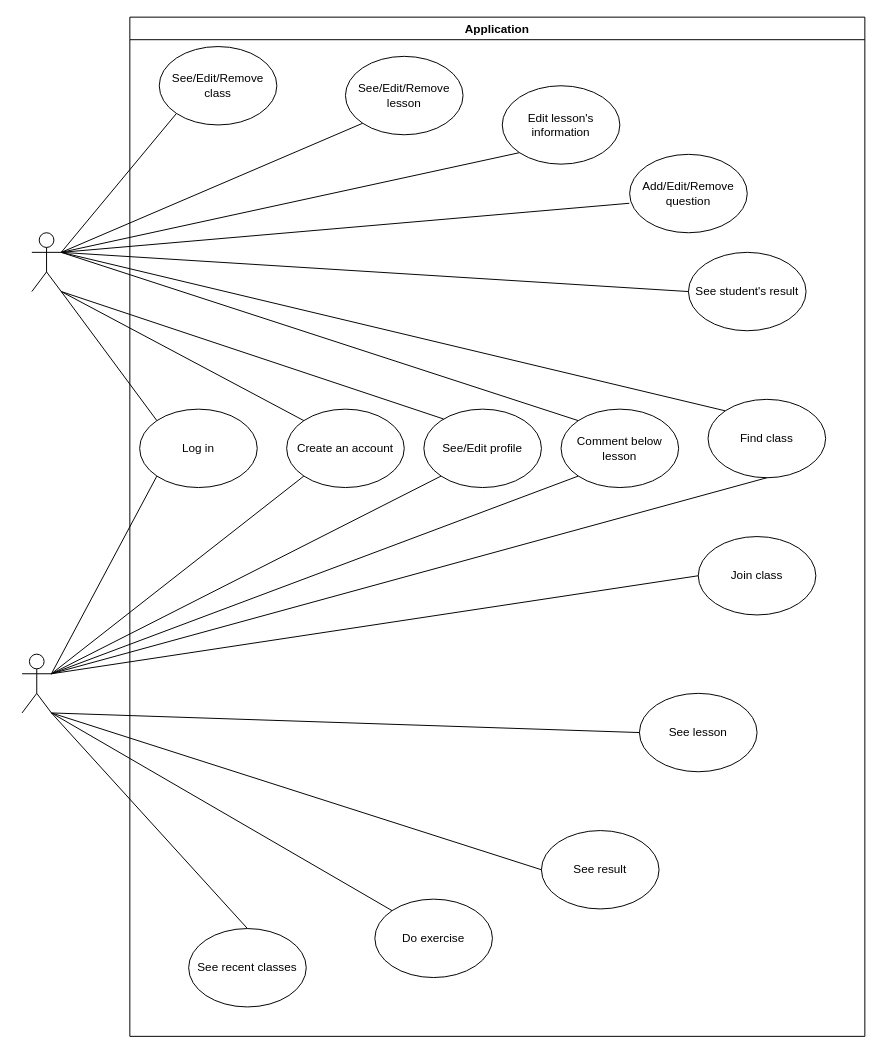
This 882x1054 diagram has some shape labels left out. The centre of each missing label's shape, as x and y in pixels:
"Student" goes at [36,683].
"Teacher" goes at [46,262].
